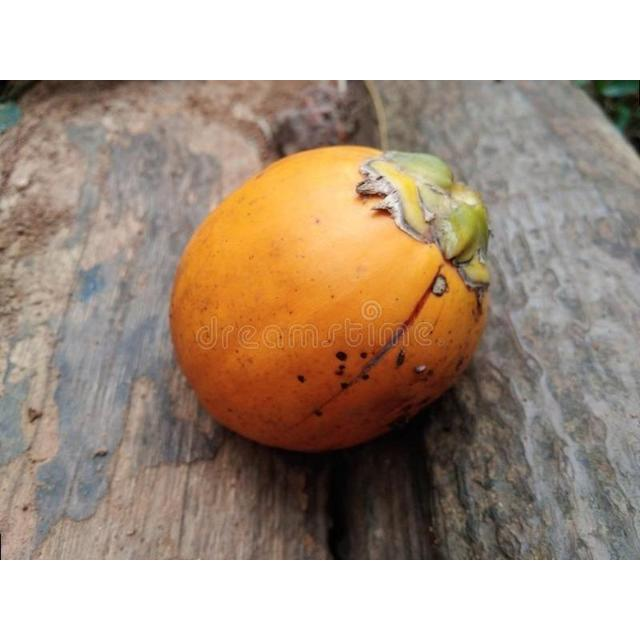good: (168, 145, 492, 455)
